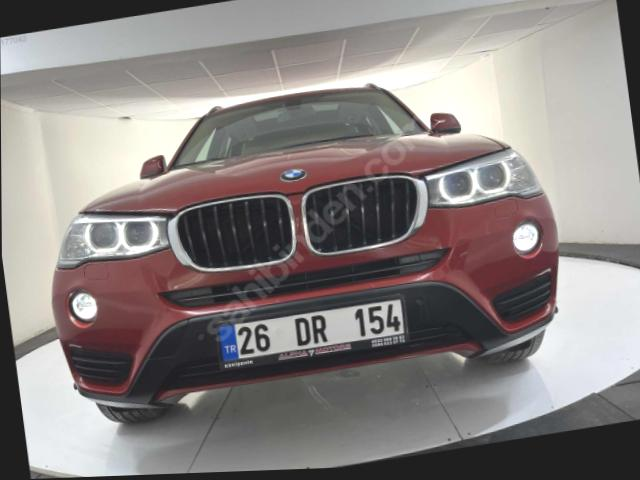plaka: (218, 298, 407, 362)
